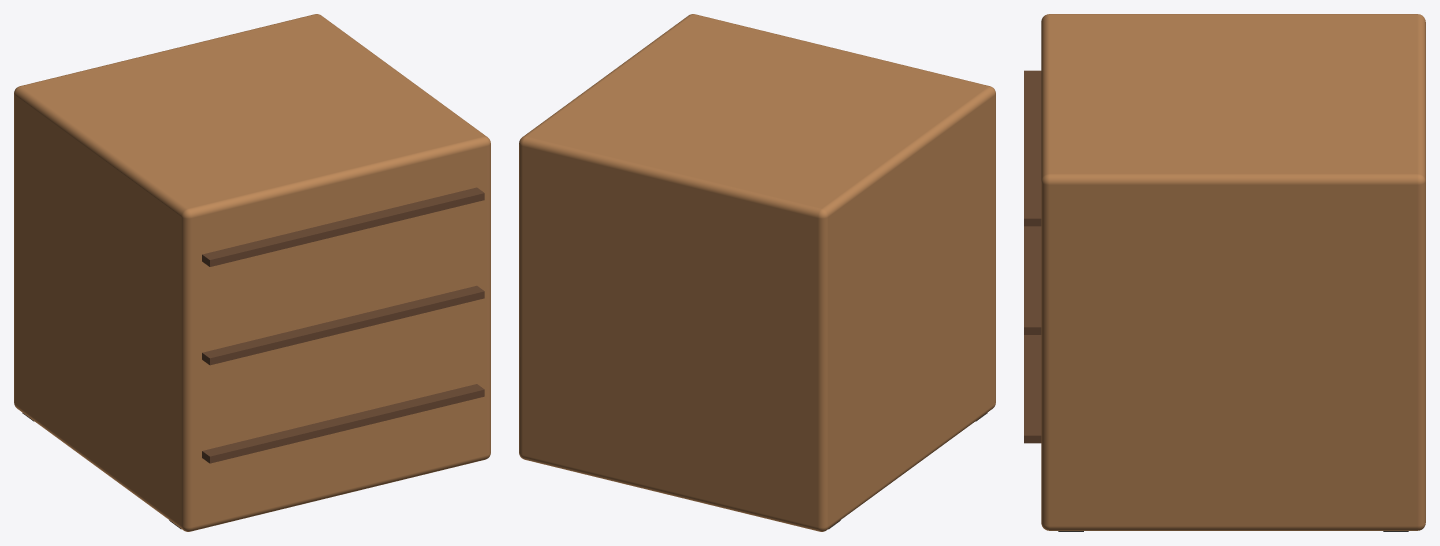
The model's file is storage.glb.
3 renders of one model, left to right at view 1: azimuth 30°, elevation 25°; view 2: azimuth 150°, elevation 25°; view 3: azimuth 270°, elevation 25°, orthographic. The views are drawn at different scales.
Bounding box in the file's own units: 0.92 × 0.92 × 0.94.
